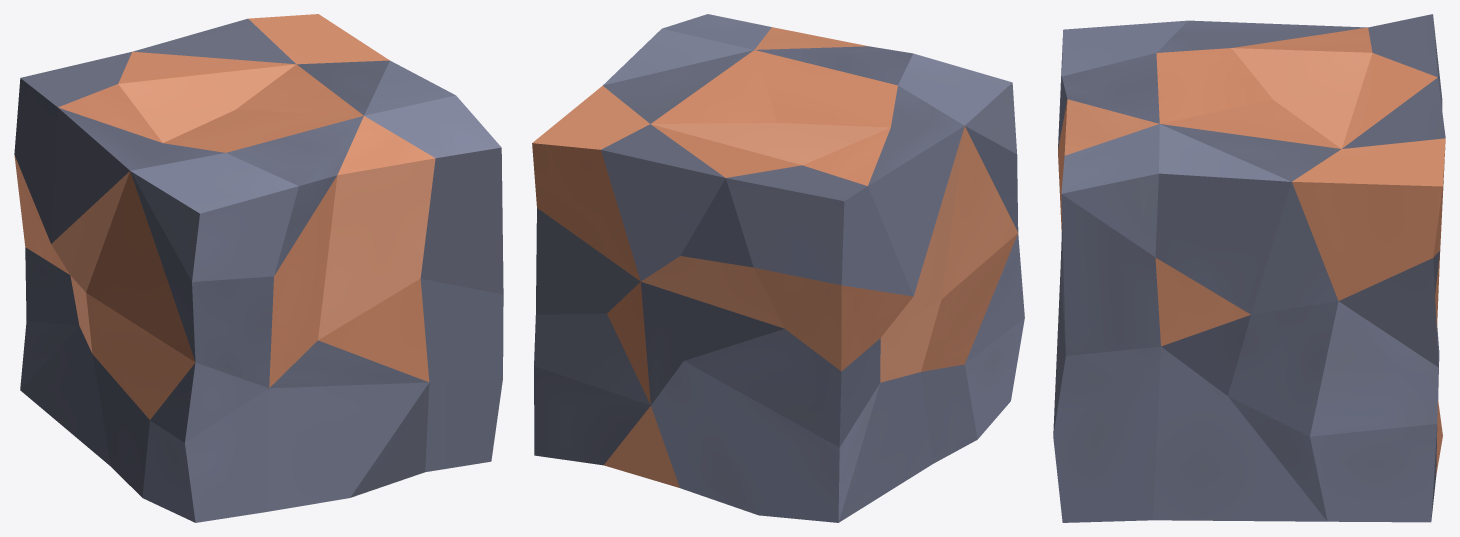
The model's file is blockiron.glb.
3 renders of one model, left to right at view 1: azimuth 30°, elevation 25°; view 2: azimuth 150°, elevation 25°; view 3: azimuth 270°, elevation 25°, orthographic. The views are drawn at different scales.
Parts seen in each view (by area): view 1: CubeIron; view 2: CubeIron; view 3: CubeIron.
Part boxes in pixels (box(x1,y1,x2,y2)): CubeIron: box(14, 14, 503, 522); CubeIron: box(532, 14, 1024, 522); CubeIron: box(1053, 14, 1445, 522).
Bounding box in the file's own units: 2.2 × 2.16 × 2.09.
1 material, 1 textured.
